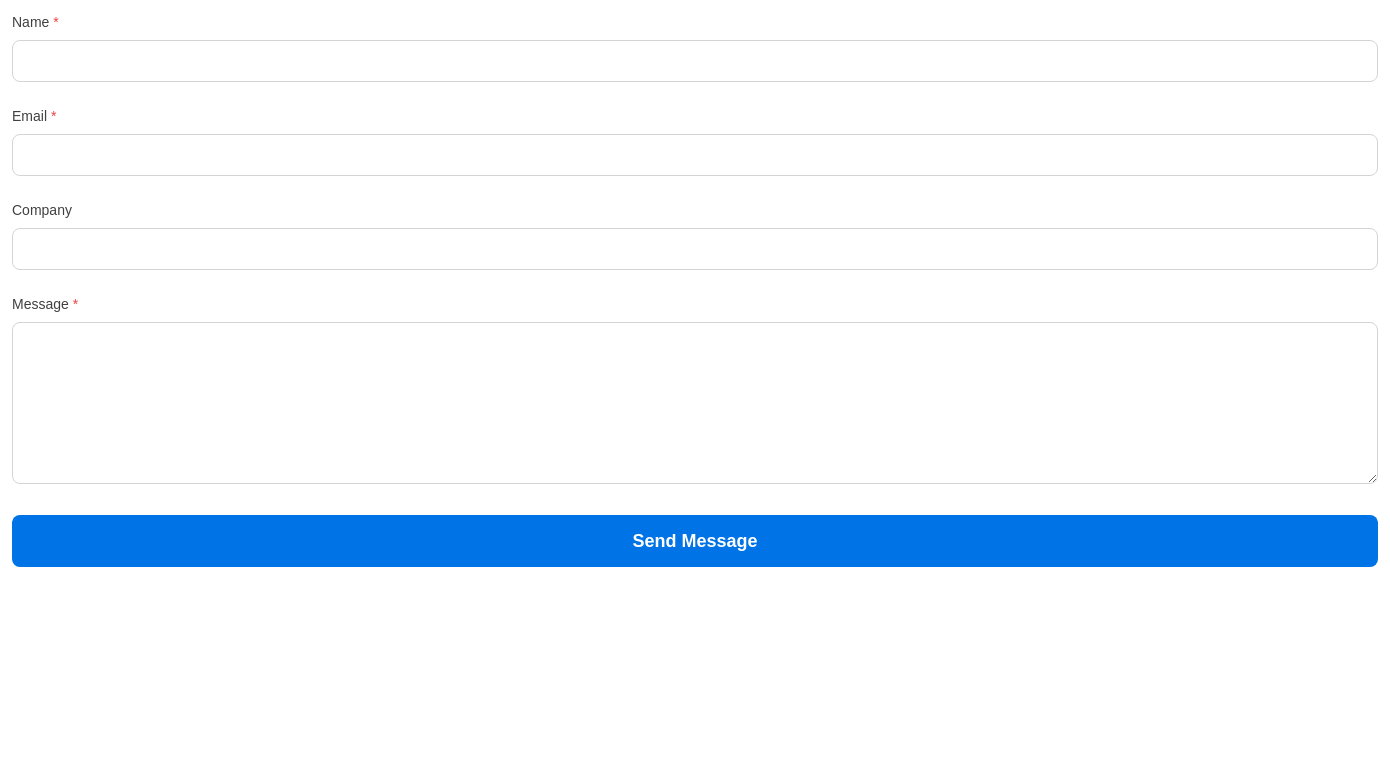
ContactForm Component › Error State › should display error message on submission failure
Type "John Doe" into the field labelled "Name *" at (695,61), box [12,40,1378,82]
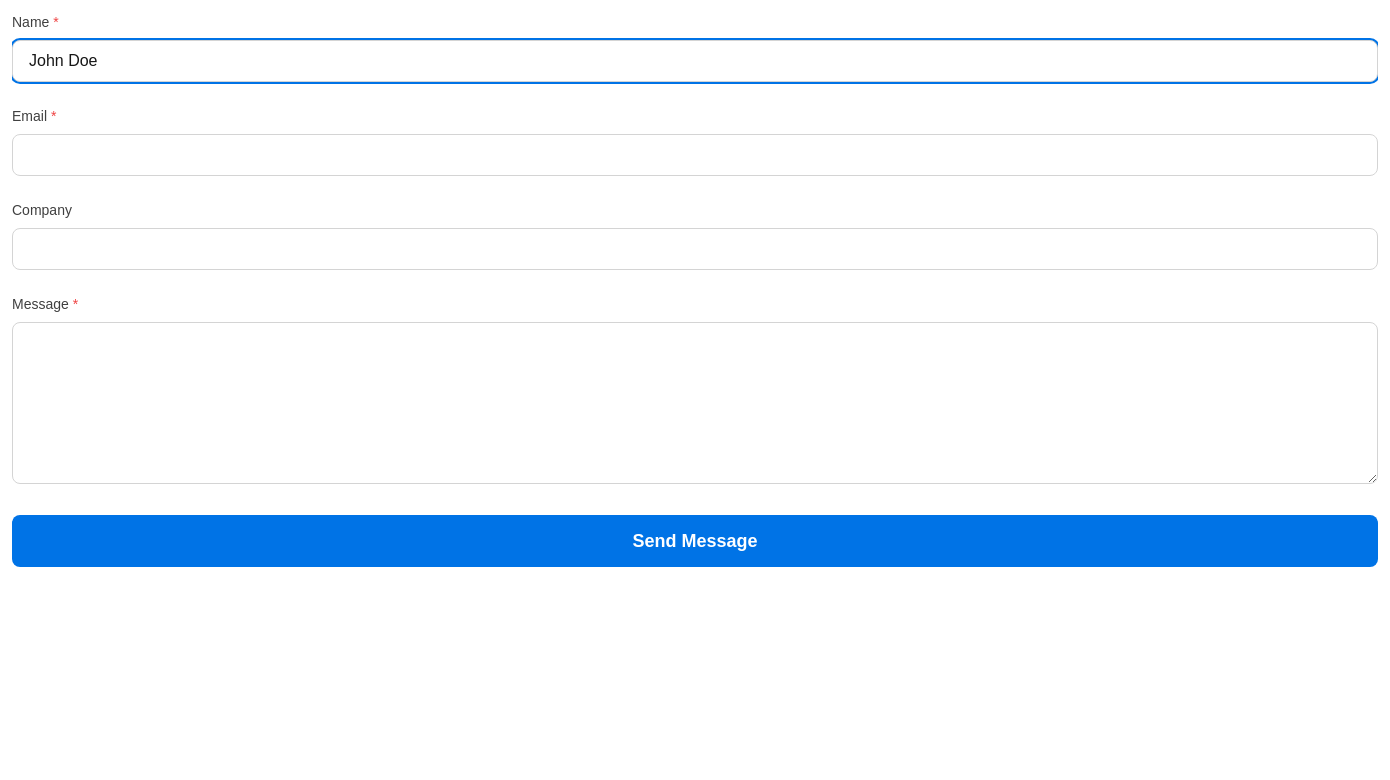
Type "john@example.com" into the field labelled "Email *" at (695,155), box [12,134,1378,176]
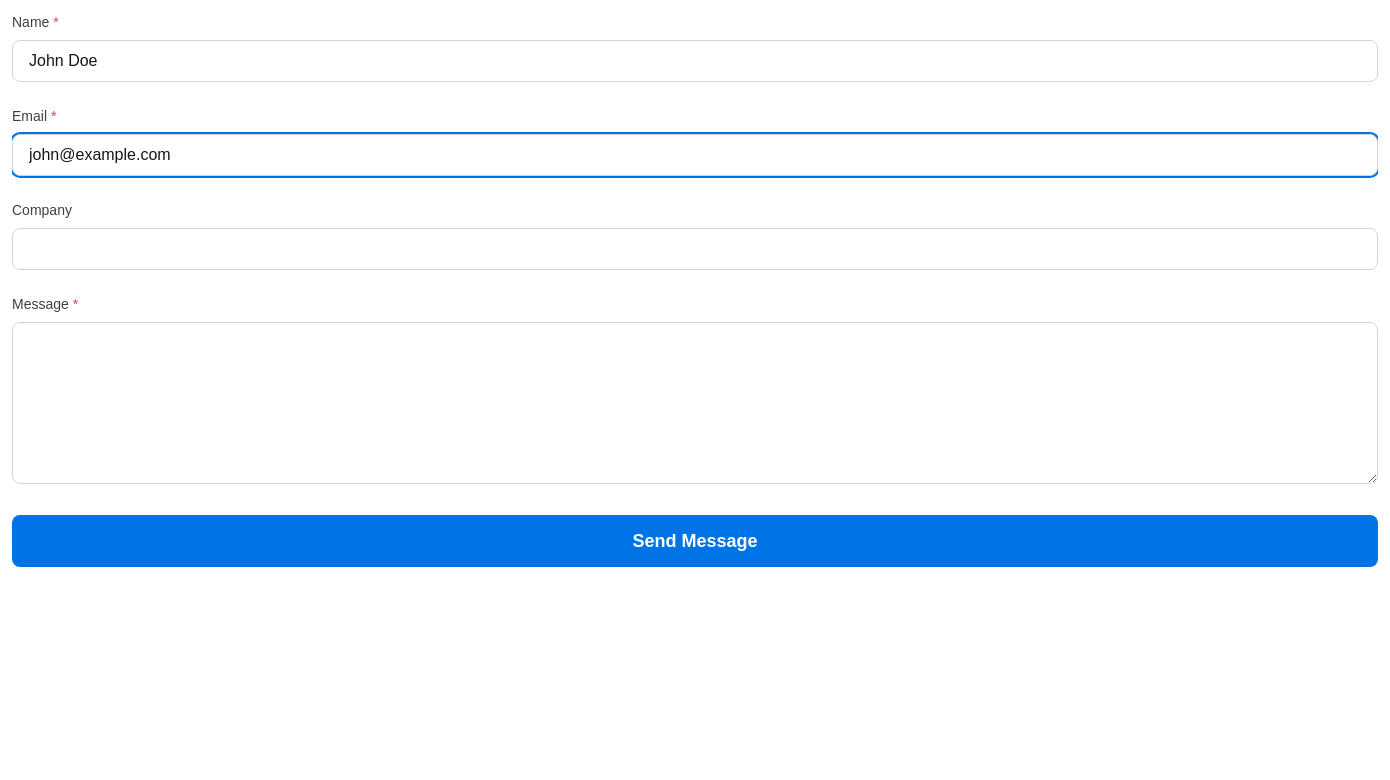
Type "Test message" into the text box labelled "Message *" at (695,403), box [12,322,1378,484]
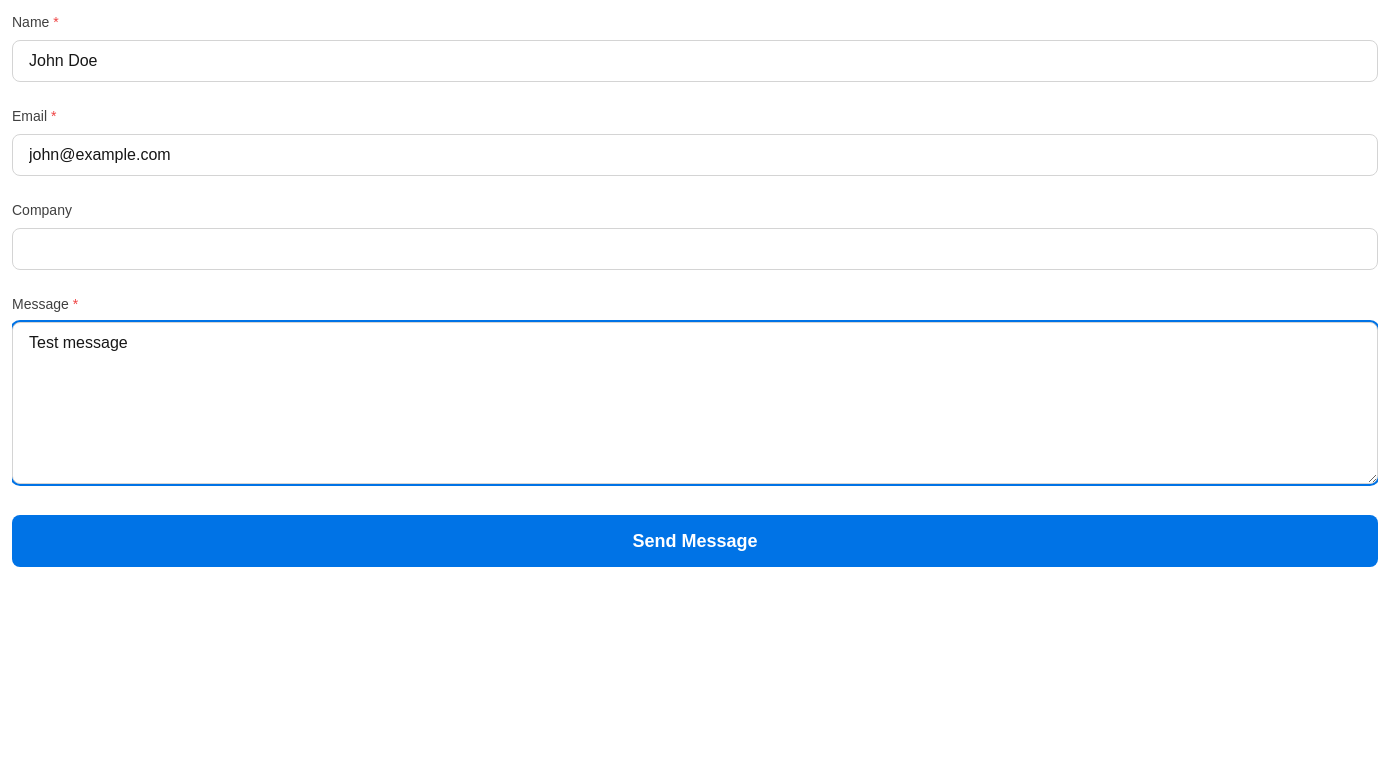
Click the button "Send Message" at (695,541), box [12,515,1378,567]
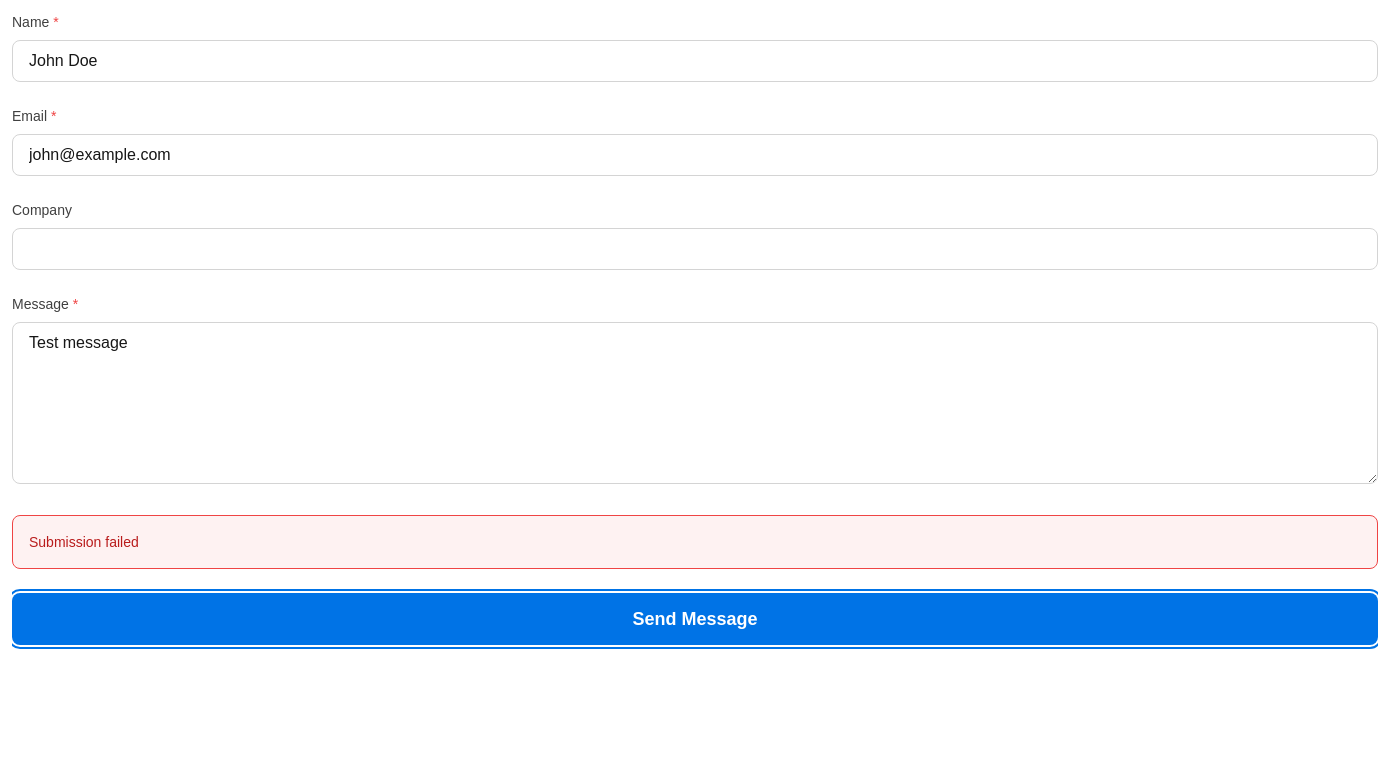
Expected: the text "Submission failed" is shown, [29,534,139,550]
